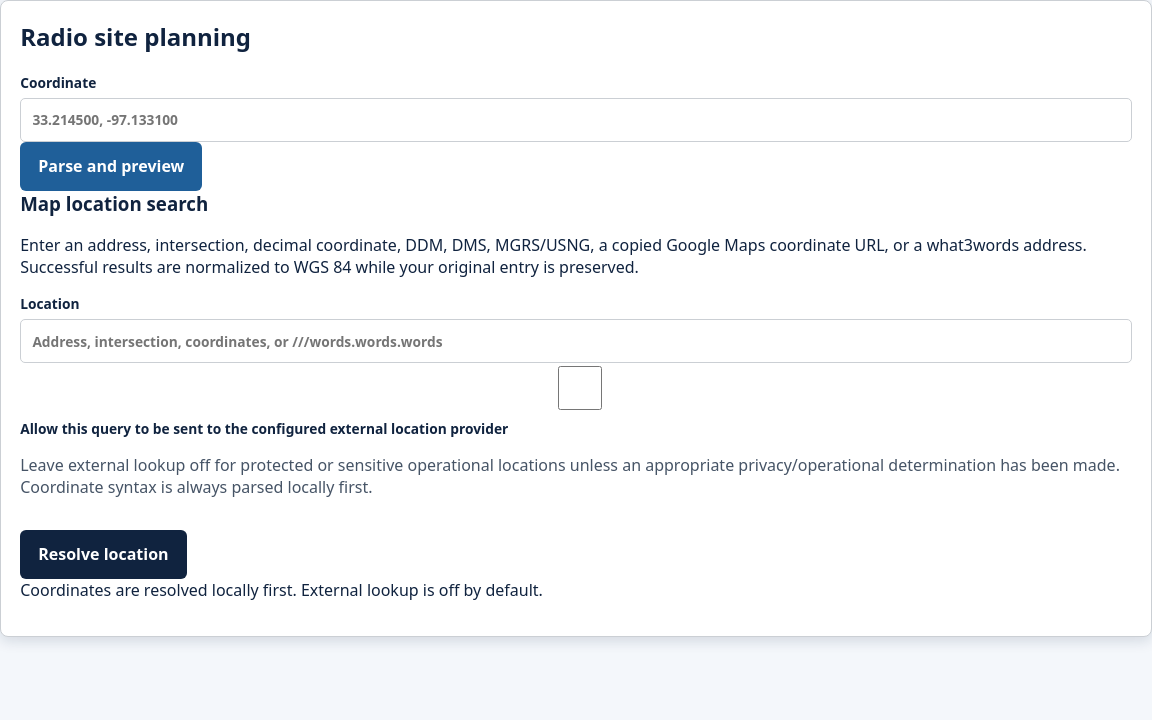
Test: selecting a keyboard-accessible result populates the canonical coordinate field
The width and height of the screenshot is (1152, 720).
Type "Synthetic EOC" into the field labelled "Location" at (576, 341), box left=20, top=319, right=1132, bottom=363
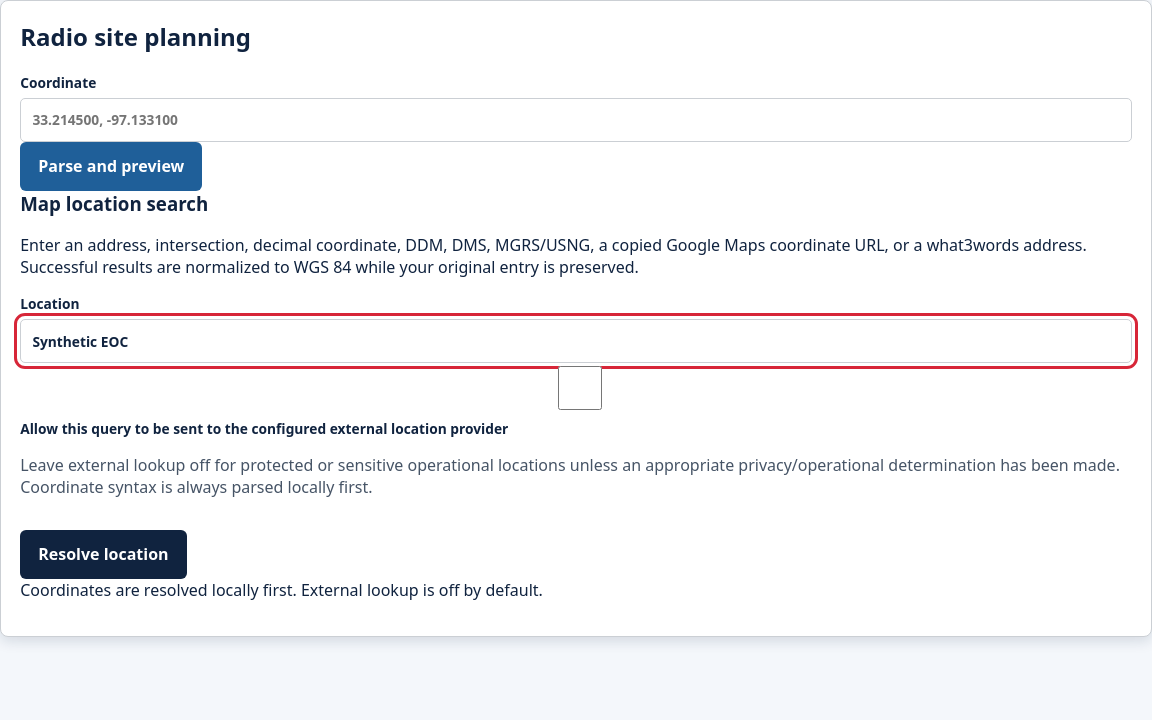
Click the checkbox labelled "Allow this query to be sent to the configured external location provider" at (580, 388), box left=24, top=366, right=1136, bottom=410
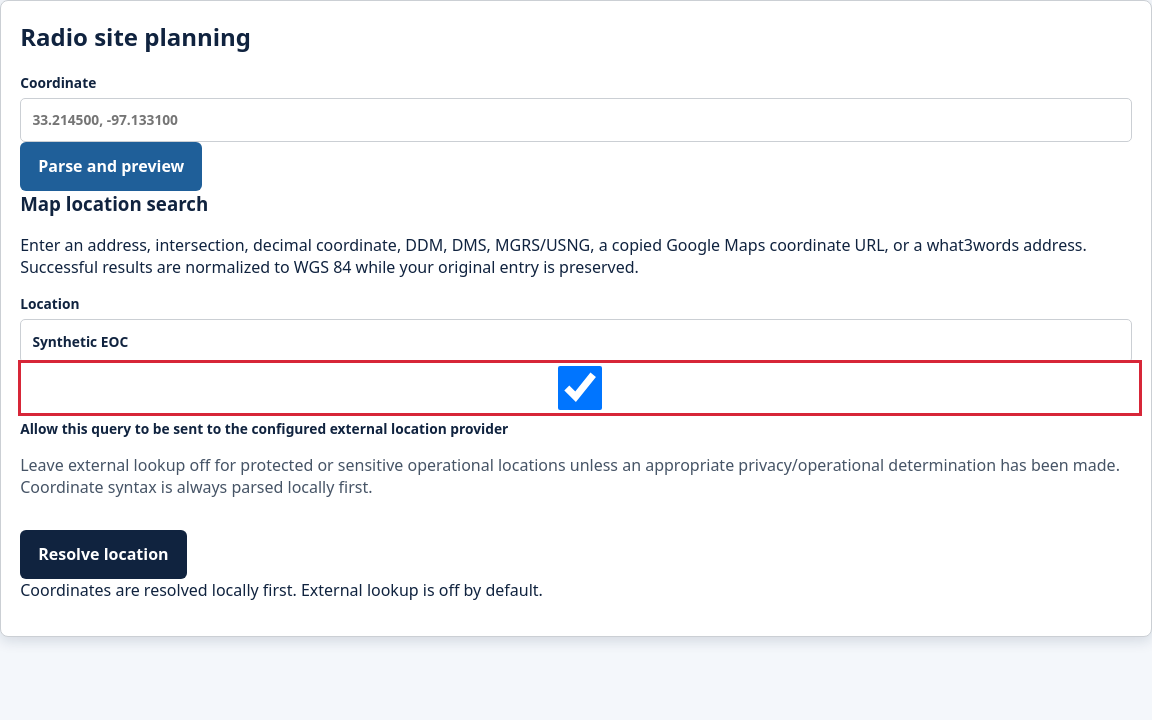
Click the button "Resolve location" at (103, 554), box left=20, top=530, right=187, bottom=579
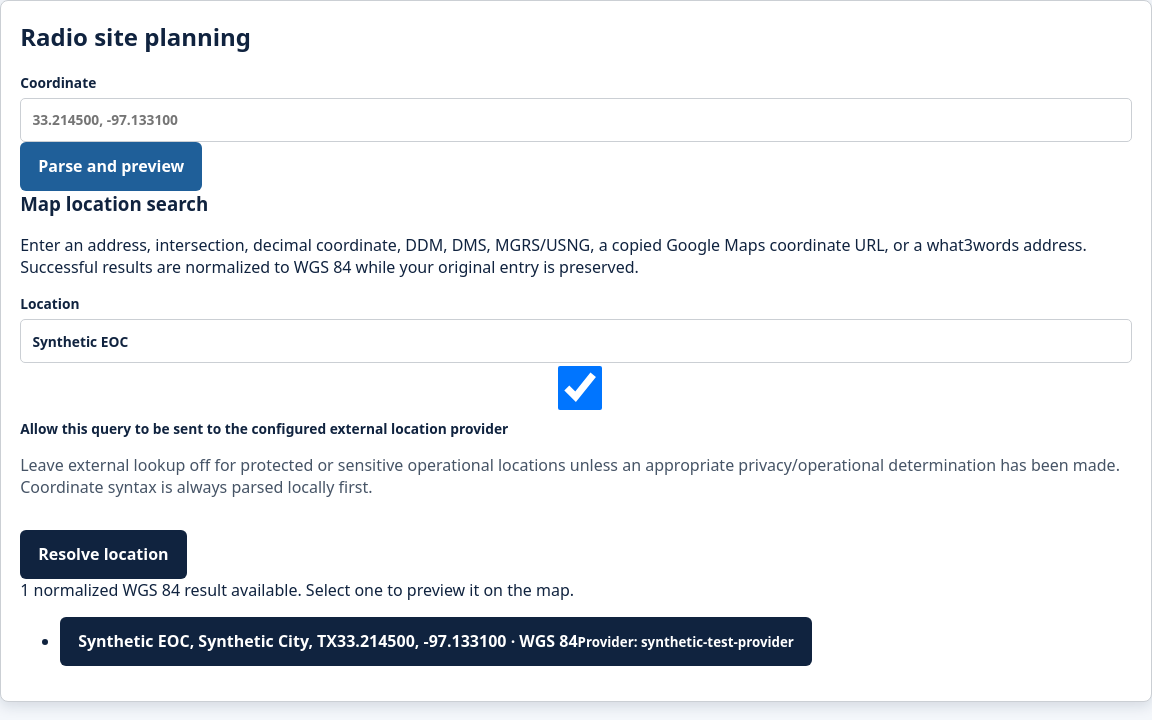
Click the button "Synthetic EOC, Synthetic City, TX" at (436, 641), box left=60, top=617, right=812, bottom=666
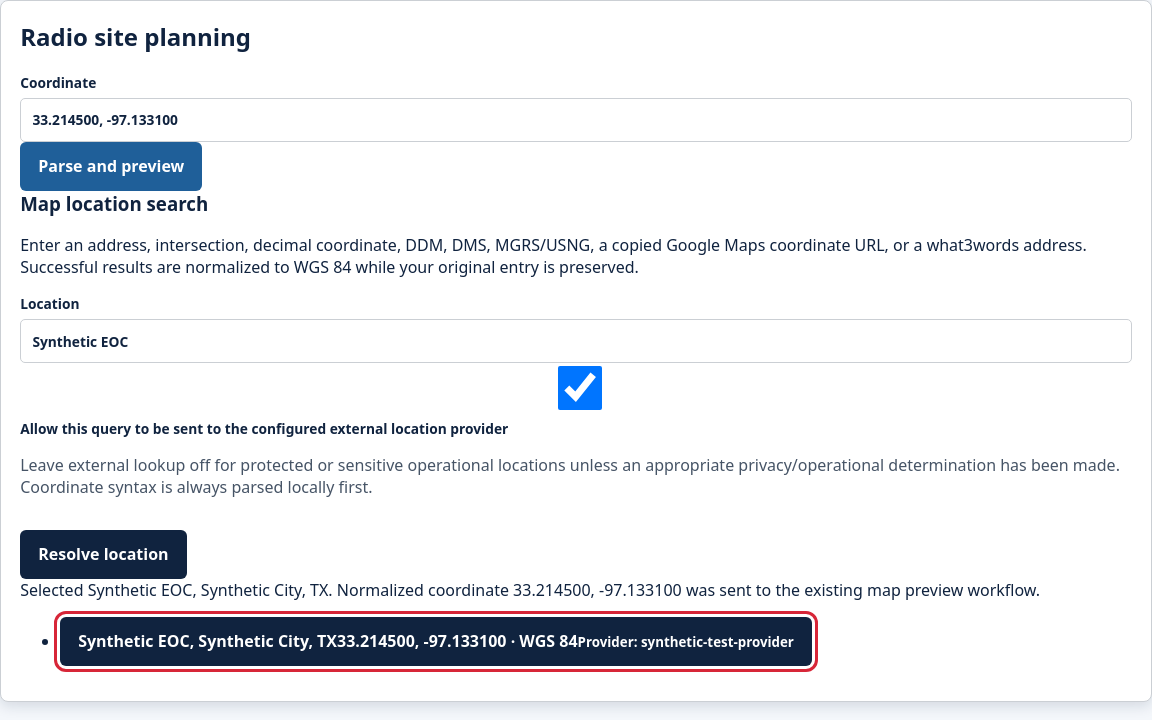
expect the field with placeholder "33.214500, -97.133100" holds "33.214500, -97.133100": met, box left=20, top=98, right=1132, bottom=142
expect the message shows "sent to the existing map preview workflow": met, box left=20, top=579, right=1040, bottom=601
